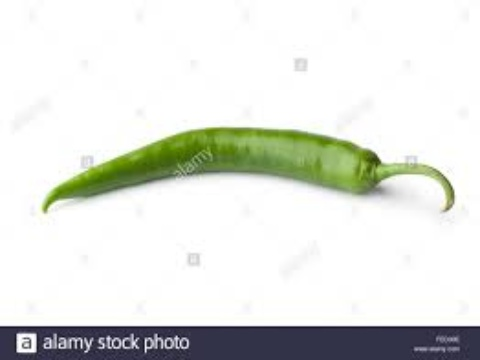Chilli: (34, 112, 456, 258)
